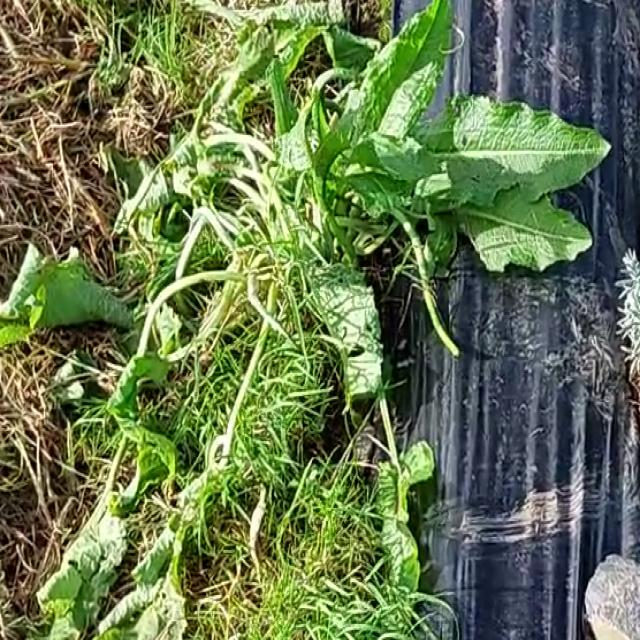organic waste: (21, 0, 622, 637)
